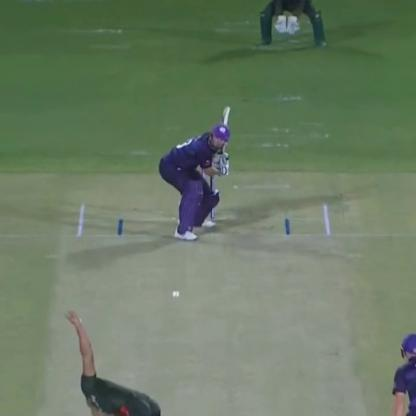ball: (167, 288, 185, 300)
bat: (210, 97, 237, 145)
pitch: (36, 204, 366, 415)
